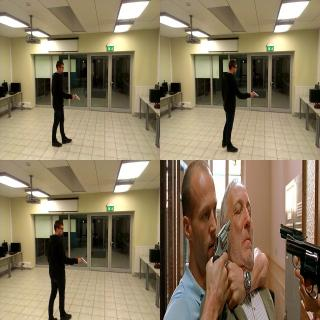gun: (276, 218, 320, 312), (204, 217, 230, 313), (77, 252, 87, 264), (248, 88, 258, 98), (71, 92, 79, 100)
